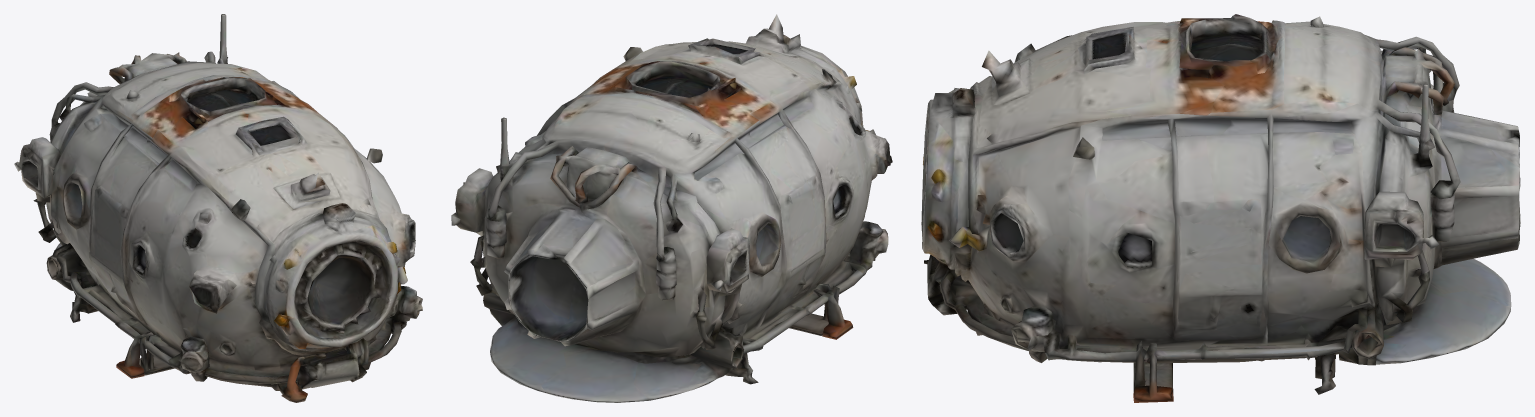
File: hab-marte.glb
3 views of the same model, side by side, from view 1: azimuth 30°, elevation 25°; view 2: azimuth 150°, elevation 25°; view 3: azimuth 270°, elevation 25° (orthographic). The views are drawn at different scales.
Parts seen in each view (by area): view 1: tripo_node_3fbf465f-065a-4b06-816b-d1efa151f90e; view 2: tripo_node_3fbf465f-065a-4b06-816b-d1efa151f90e; view 3: tripo_node_3fbf465f-065a-4b06-816b-d1efa151f90e.
Boxes of the visible parts, x1,y1,x2,y2 form: tripo_node_3fbf465f-065a-4b06-816b-d1efa151f90e: (14, 14, 422, 402); tripo_node_3fbf465f-065a-4b06-816b-d1efa151f90e: (451, 14, 892, 402); tripo_node_3fbf465f-065a-4b06-816b-d1efa151f90e: (921, 14, 1520, 402).
Size of the model in its own units: 0.6259 by 0.5315 by 1.
Materials: 1 (1 with a texture image).
